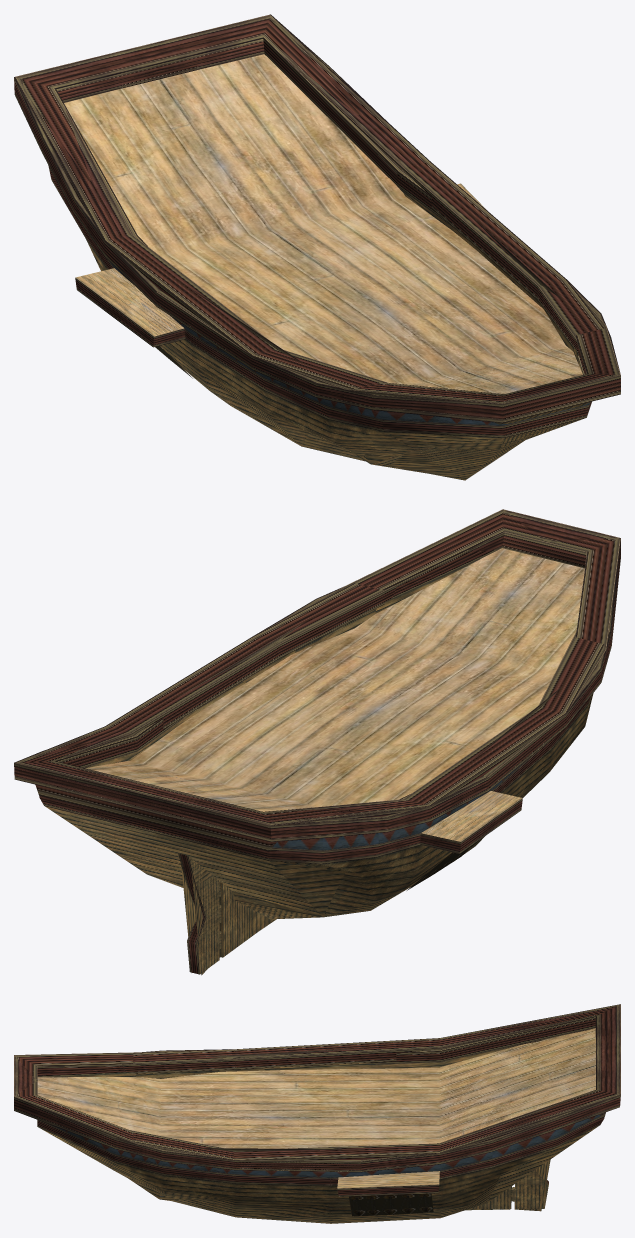
The model's file is pir_m_shp_slp_light.fbx.
3 views of the same model, one above another, from view 1: azimuth 30°, elevation 25°; view 2: azimuth 150°, elevation 25°; view 3: azimuth 270°, elevation 25° (orthographic). The views are drawn at different scales.
Visible parts, largest first — view 1: deck1, trim.001, toptrim_right2, hull_outer, trim, hullA_b11, stripeA_b2, rigging_mount_right.002, hull_trim, patternA.001, rigging_trim_right.002, hull_trim.001 (+5 smaller); view 2: deck1, trim.001, toptrim_right2, hull_outer.001, hull_outer, trim, hull_trim, stripeA.003, rudder_a_1, rudder_a_2, patternA, rigging_mount_right.002 (+7 smaller); view 3: deck1, trim.001, toptrim_right2, hull_outer, trim, stripeA_b2, hull_trim, patternA.001, pulleys_01_left, hull_inner.001, rigging_mount_left.002, patternA (+8 smaller).
Part boxes in pixels (x1,y1,x2,y2): deck1: (64,54,584,393); trim.001: (14,14,620,423); toptrim_right2: (15,14,620,420); hull_outer: (86,239,490,460); trim: (14,16,610,422); hullA_b11: (301,418,584,480); stripeA_b2: (126,278,591,437); rigging_mount_right.002: (75,268,153,336); hull_trim: (48,165,384,431); patternA.001: (114,266,589,425); rigging_trim_right.002: (75,278,185,347); hull_trim.001: (382,405,589,437); deck1: (85,548,584,811); trim.001: (14,509,620,841); toptrim_right2: (14,509,620,840); hull_outer.001: (45,806,345,917); hull_outer: (148,693,593,919); trim: (14,511,620,841); hull_trim: (39,696,590,864); stripeA.003: (35,623,562,851); rudder_a_1: (219,882,274,957); rudder_a_2: (189,857,219,974); patternA: (272,824,420,850); rigging_mount_right.002: (421,798,522,841); deck1: (37,1028,595,1148); trim.001: (14,1004,620,1160); toptrim_right2: (14,1004,620,1172); hull_outer: (112,1147,556,1223); trim: (33,1028,620,1172); stripeA_b2: (37,1120,440,1185); hull_trim: (115,1116,604,1179); patternA.001: (60,1129,440,1177); pulleys_01_left: (349,1193,433,1216); hull_inner.001: (136,1044,521,1078); rigging_mount_left.002: (337,1171,439,1188); patternA: (440,1115,600,1170).
Size of the model in its own units: 4370 by 2459 by 8232.
2 materials, 2 textured.
